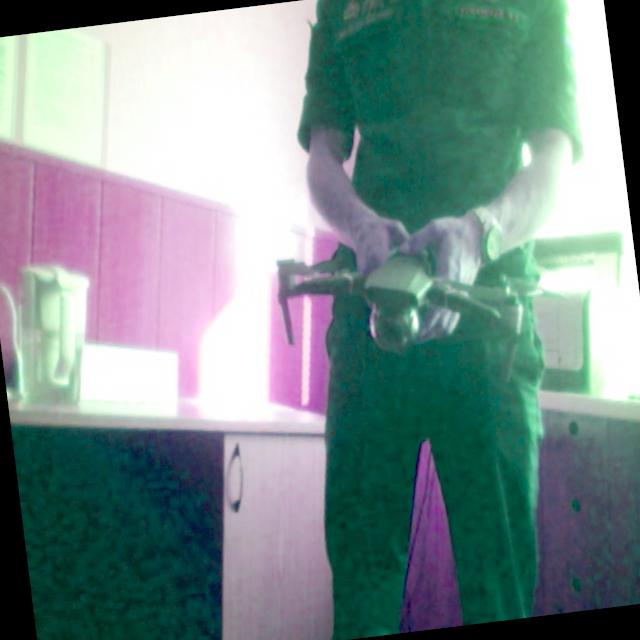drone: (251, 178, 568, 405)
